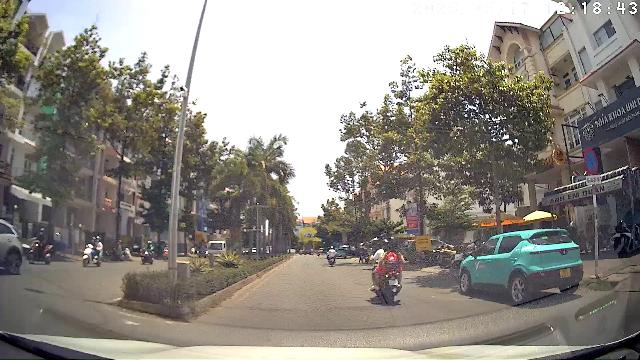131a-cam-do-xe: (584, 148, 599, 174)
